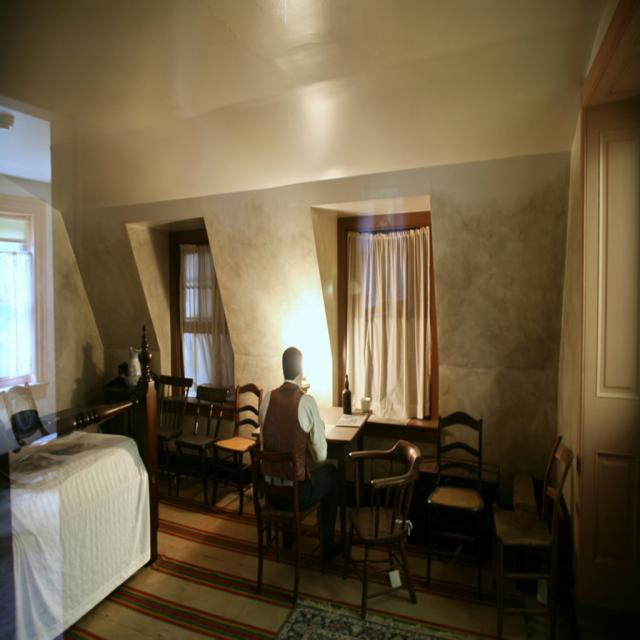chair: (492, 436, 577, 638), (342, 440, 422, 619), (424, 413, 492, 600), (252, 446, 332, 602), (208, 385, 262, 515), (175, 386, 228, 504), (154, 374, 193, 496)
desk: (253, 408, 373, 578)
person: (260, 348, 342, 561)
